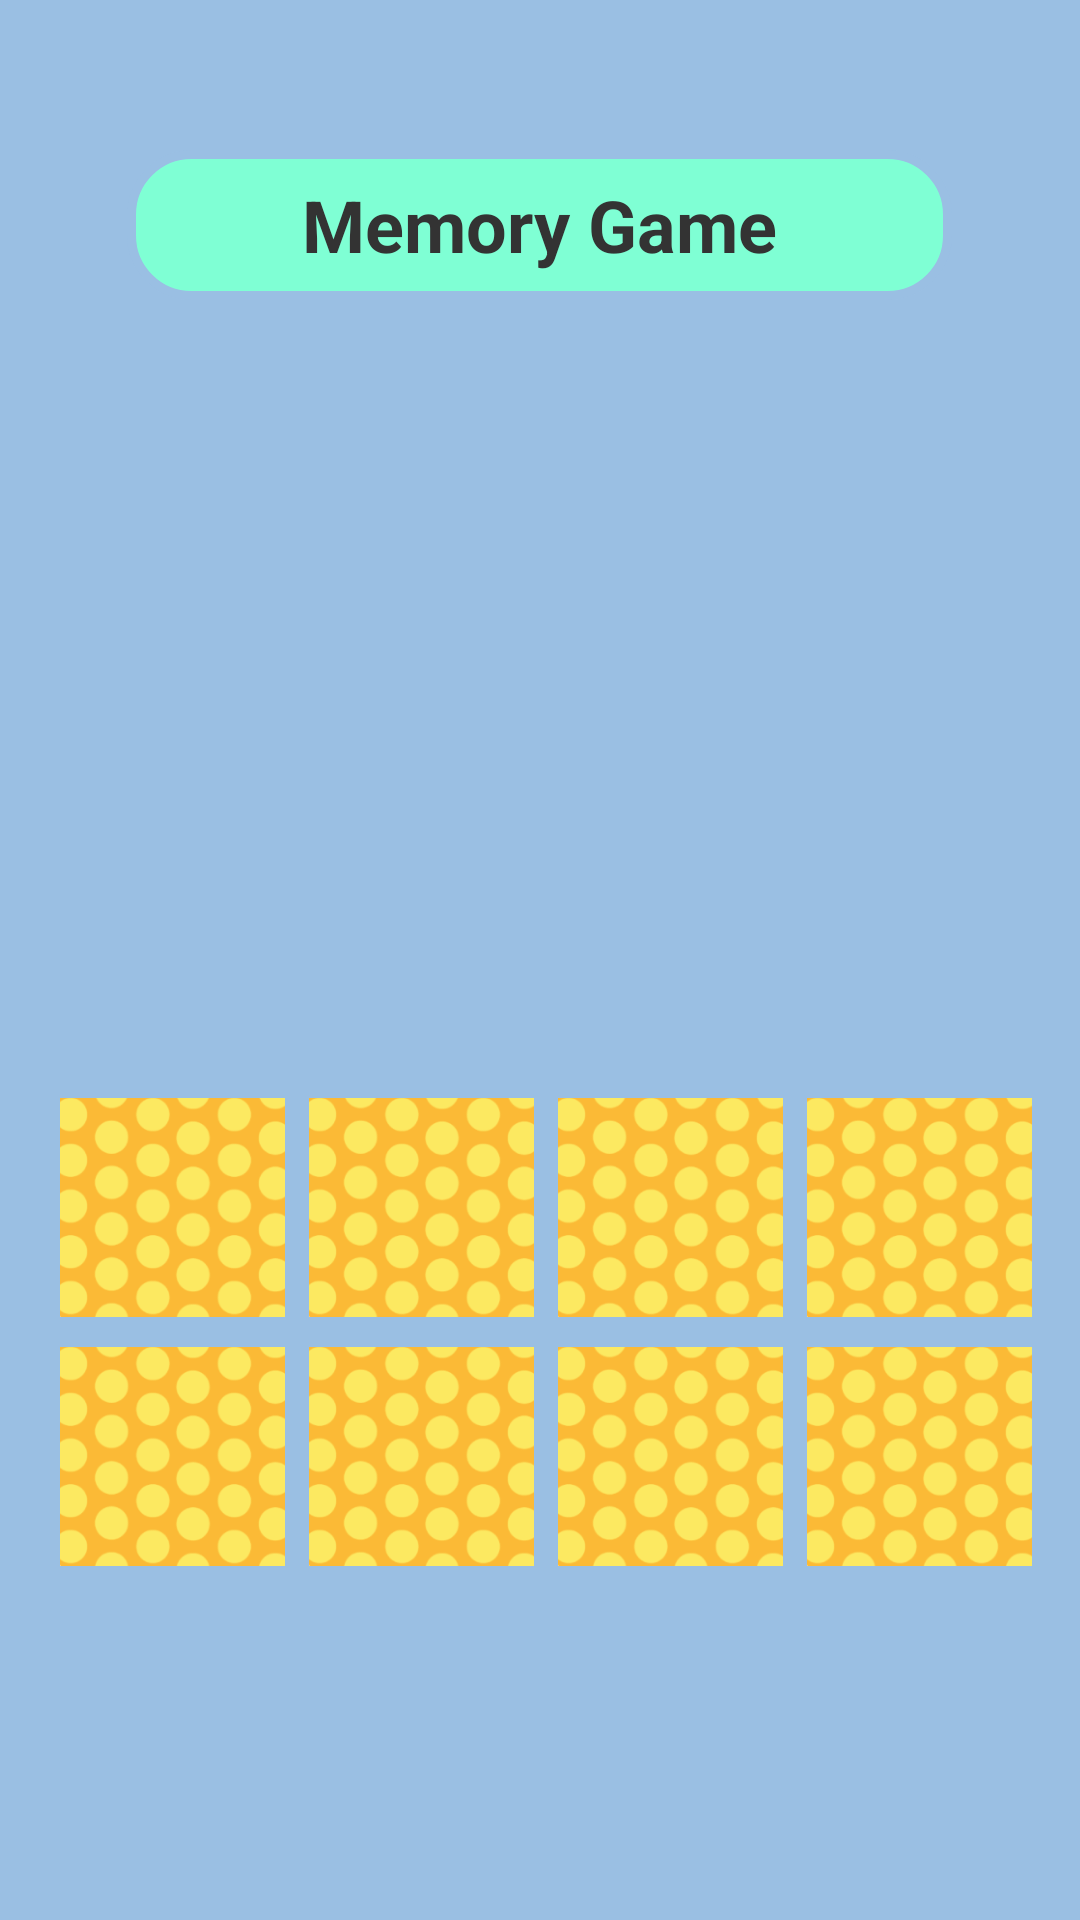

Screen size 1080x1920. Icon name, then its center in pixels as [x,y]:
card back: [172,1207], [421,1207], [670,1207], [919,1207], [172,1456], [421,1456], [670,1456], [919,1456]
